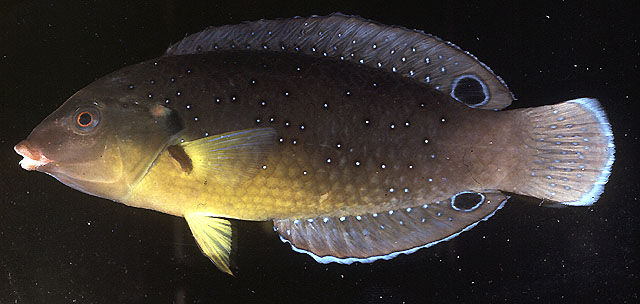fish: (14, 14, 615, 276)
